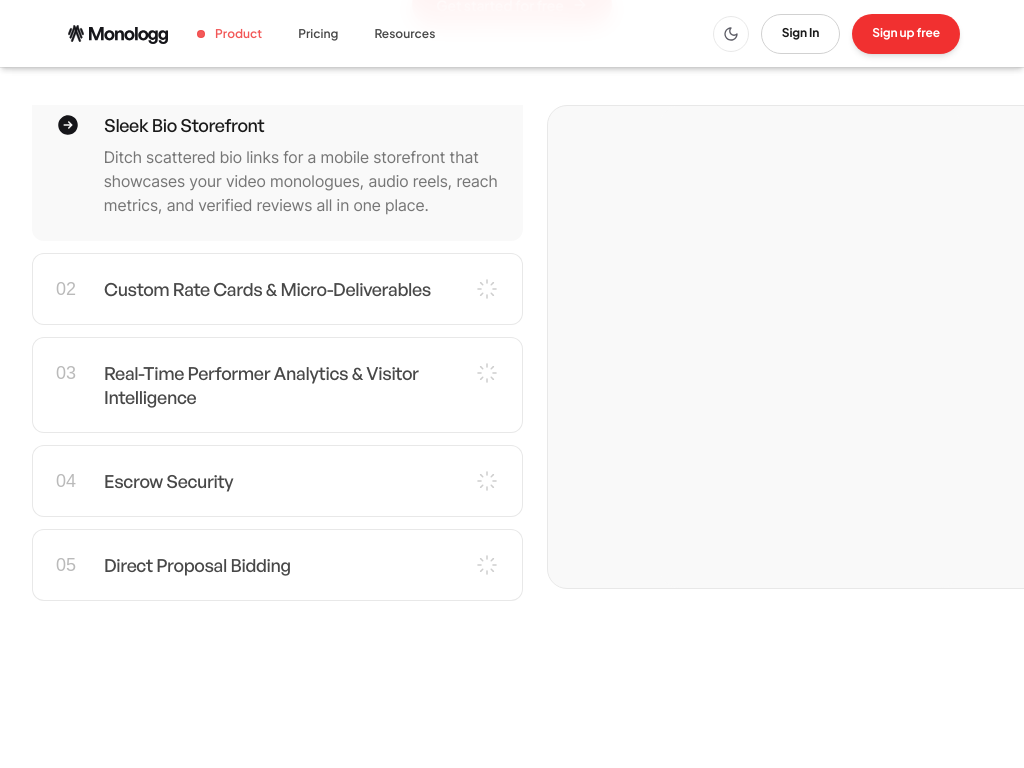
Test case: ProductPage (Figma 178359:17305) › renders the 7-step interactive showcase with 3 states per card (default, active, completed) and extracted 300x300 Figma illustrations without duplicating the re
(page scrolled)
Expected: the number of headings "Custom Rate Cards & Micro-Deliverables" is 1, [104,278,431,300]
Expected: the number of headings "Real-Time Performer Analytics & Visitor Intelligence" is 1, [104,362,419,408]
Clicking Step 03 marks Steps 01 and 02 as "completed", Step 03 as "active", and Steps 04..07 as "default"
Click the button with test id "step-card-03": (278, 385) [32,337,523,433]
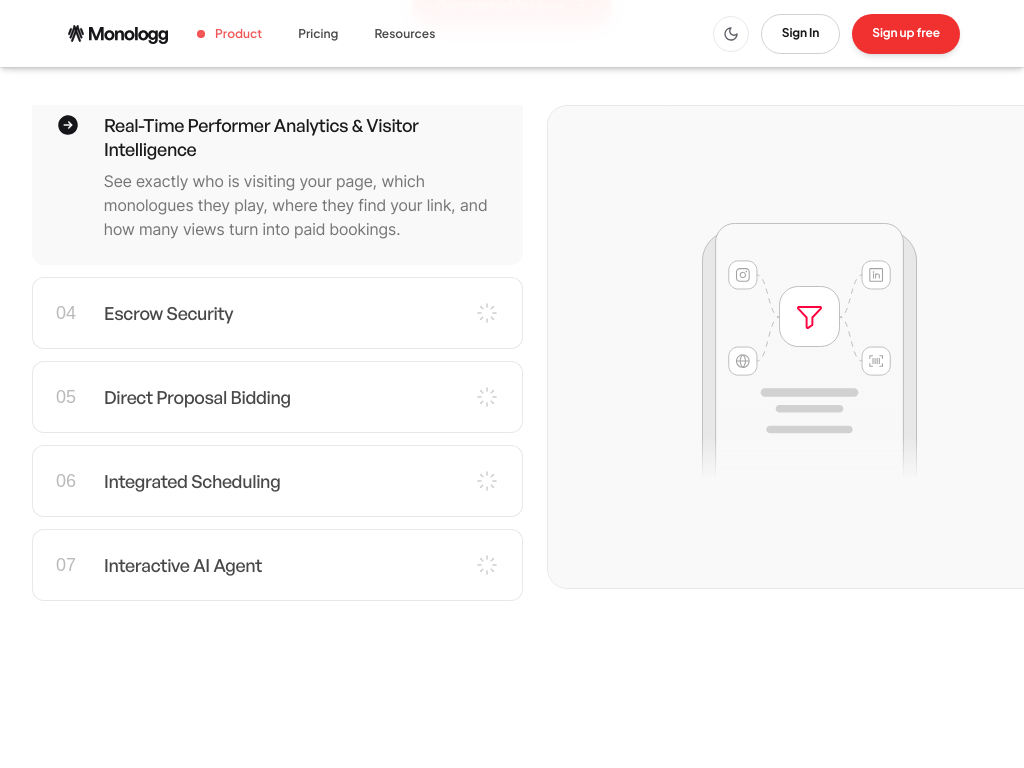
Now the text "See exactly who is visiting your page, which monologues they play" is shown, box [104,171,488,239]
